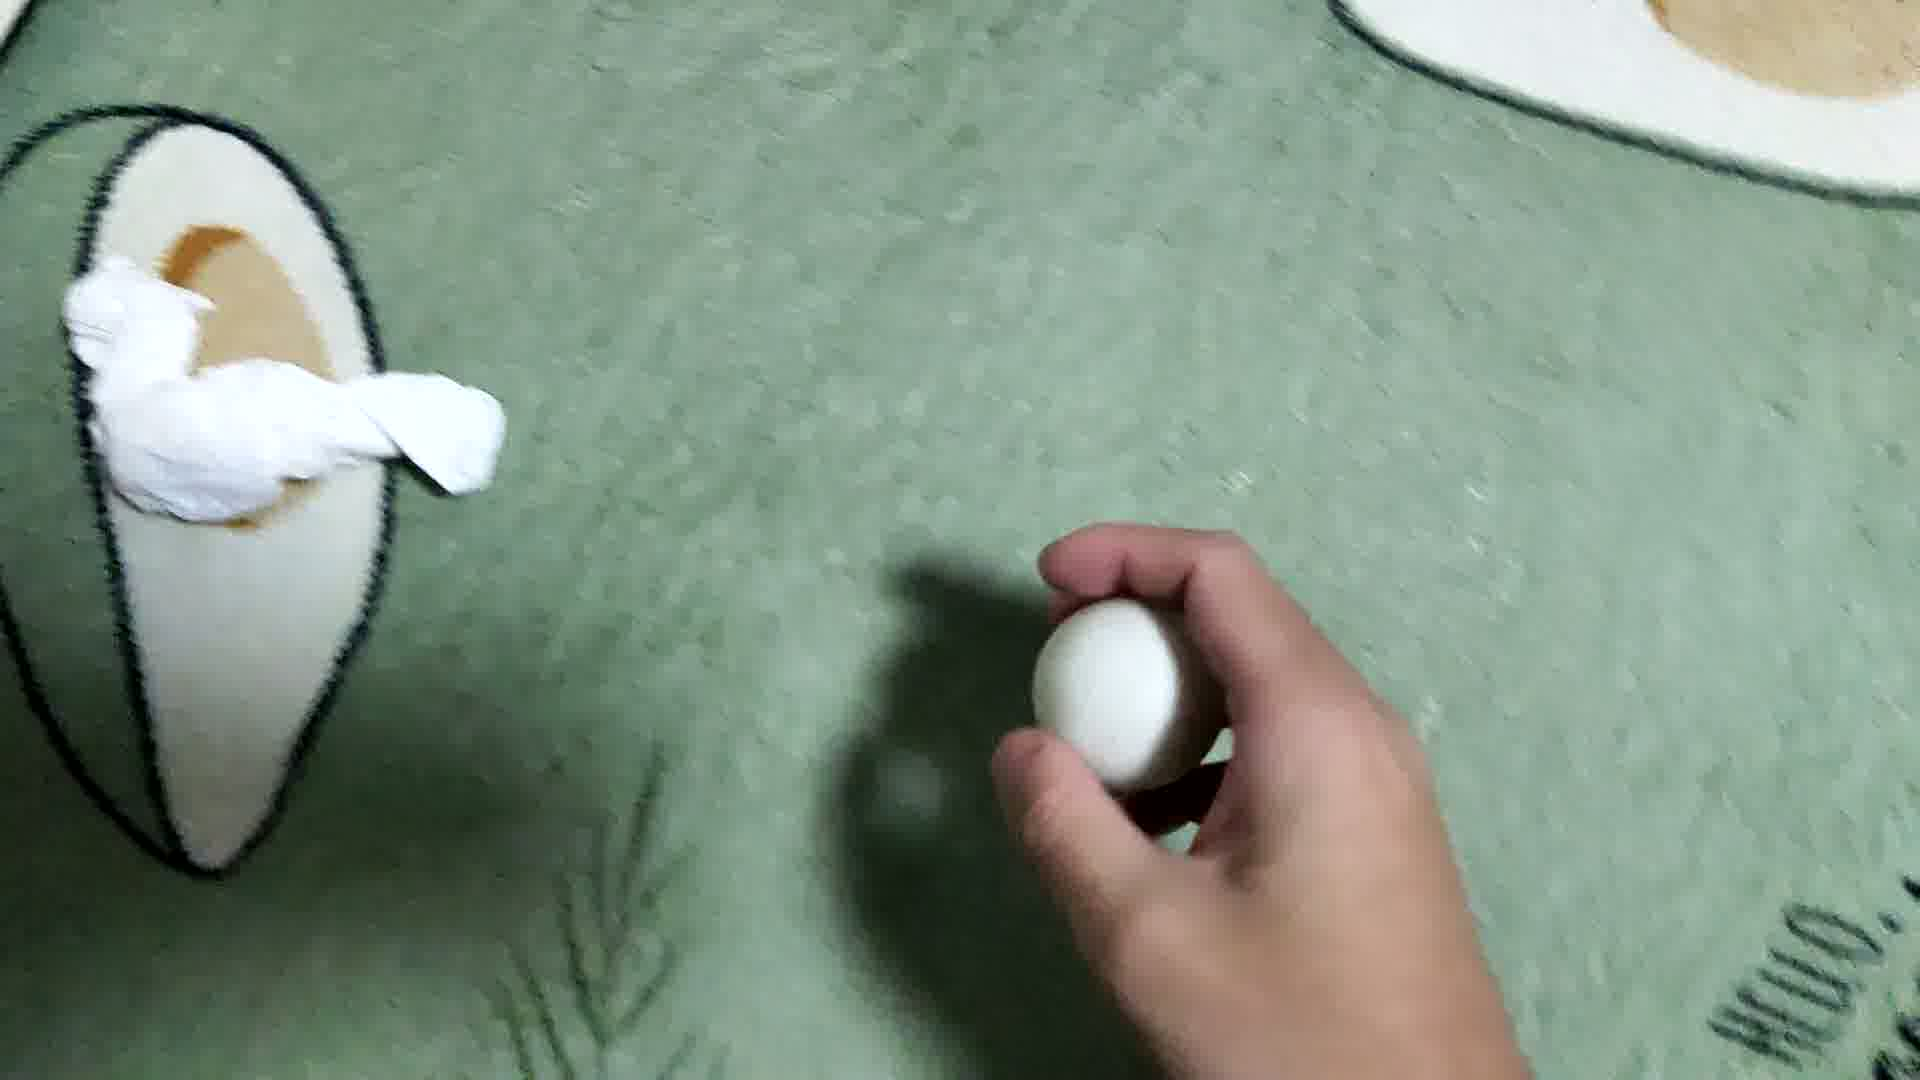Ball: (1033, 595, 1212, 790)
